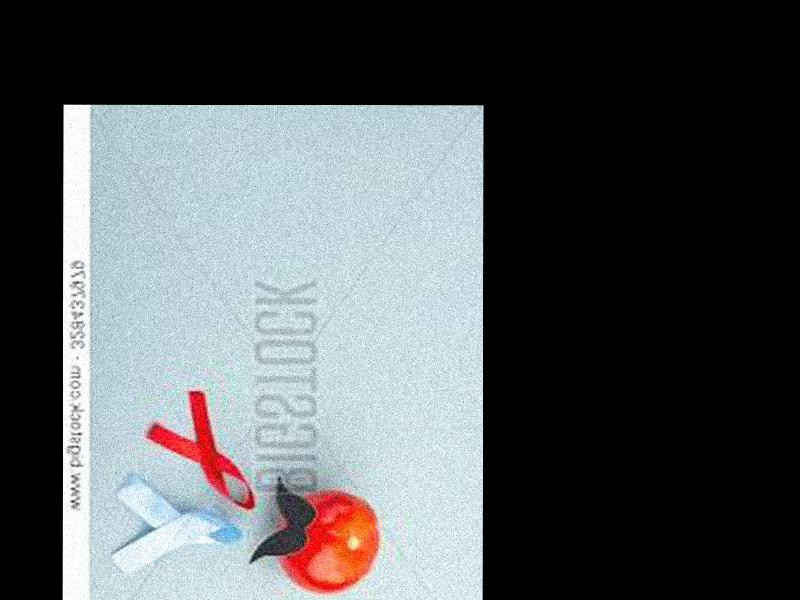Tomato: (277, 489, 380, 593)
